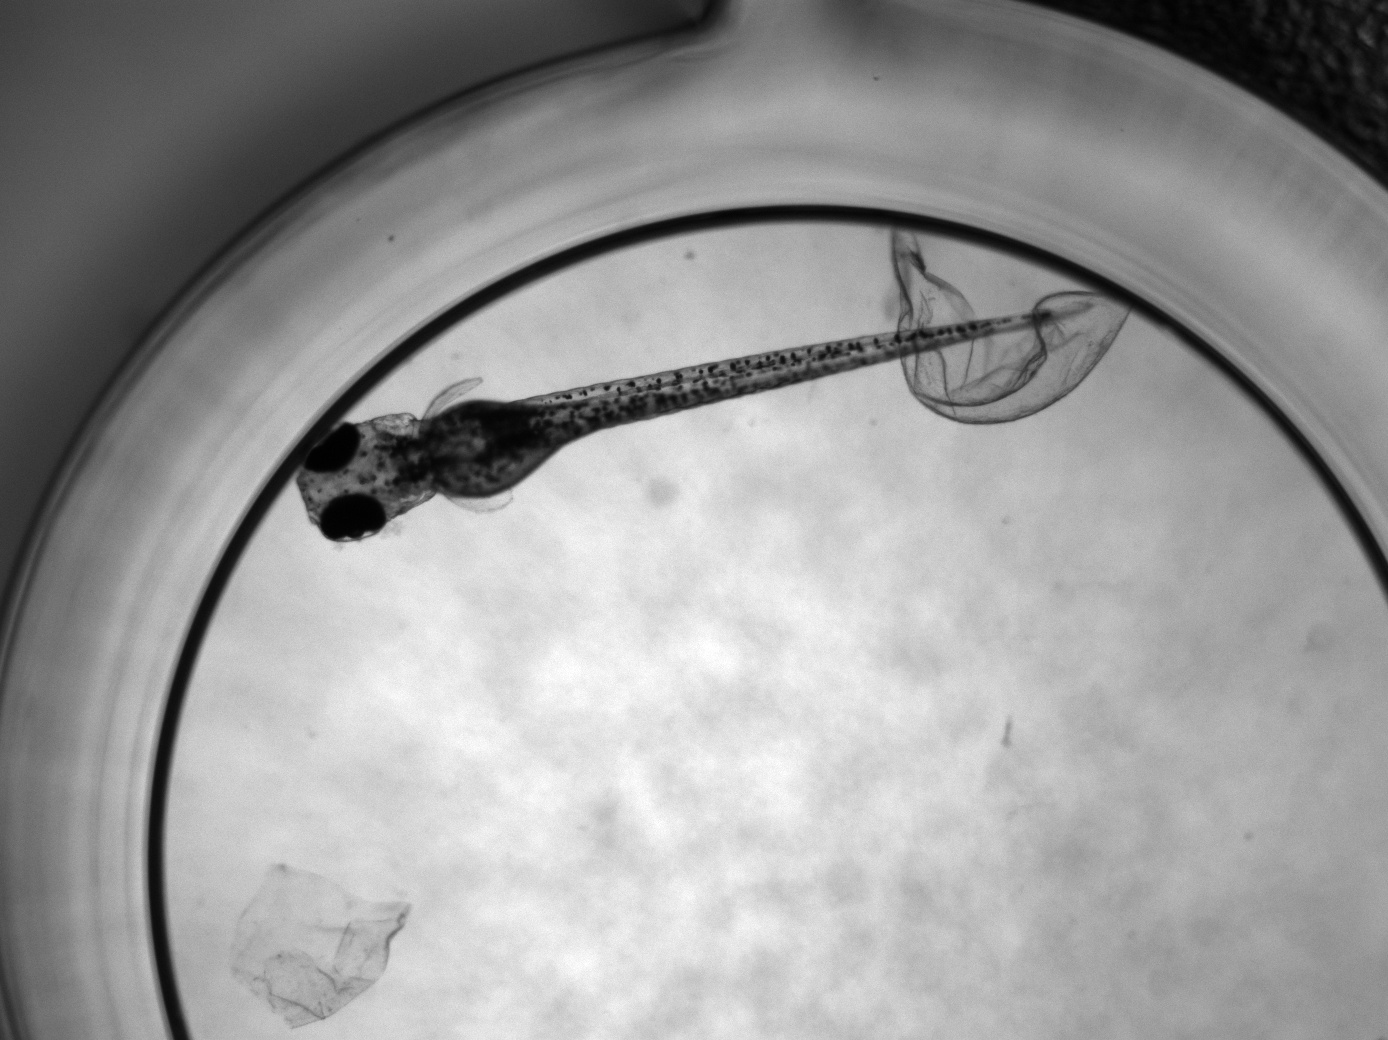debris: (891, 225, 1129, 426), (228, 864, 411, 1032)
embryo: (297, 299, 1093, 541)
eye: (320, 495, 385, 542), (302, 422, 359, 472)
yolksac: (429, 399, 534, 498)
